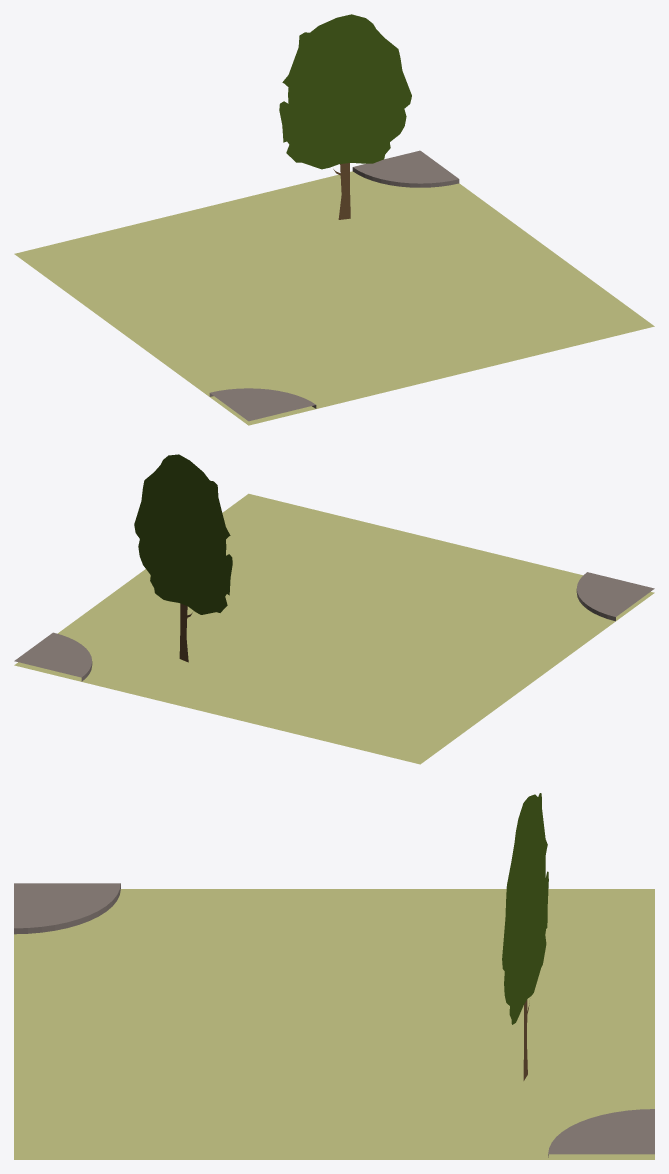
Rendered from wrwr.obj.
3 renders of one model, top to bottom at view 1: azimuth 30°, elevation 25°; view 2: azimuth 150°, elevation 25°; view 3: azimuth 270°, elevation 25°, orthographic. The views are drawn at different scales.
Visible parts, largest first — view 1: wrwr; view 2: wrwr; view 3: wrwr.
Part boxes in pixels (x1,y1,x2,y2): wrwr: [14, 14, 654, 425]; wrwr: [14, 454, 654, 764]; wrwr: [14, 793, 654, 1159].
Size of the model in its own units: 30 by 14.41 by 30.
